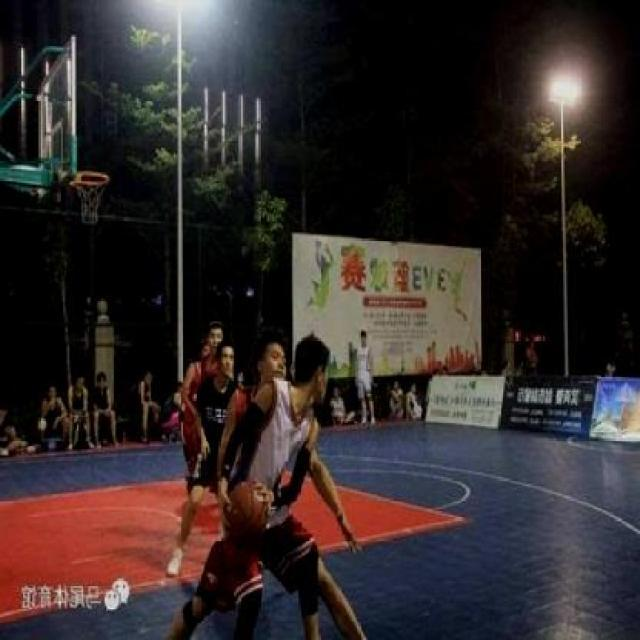Ball: (229, 489, 271, 546)
